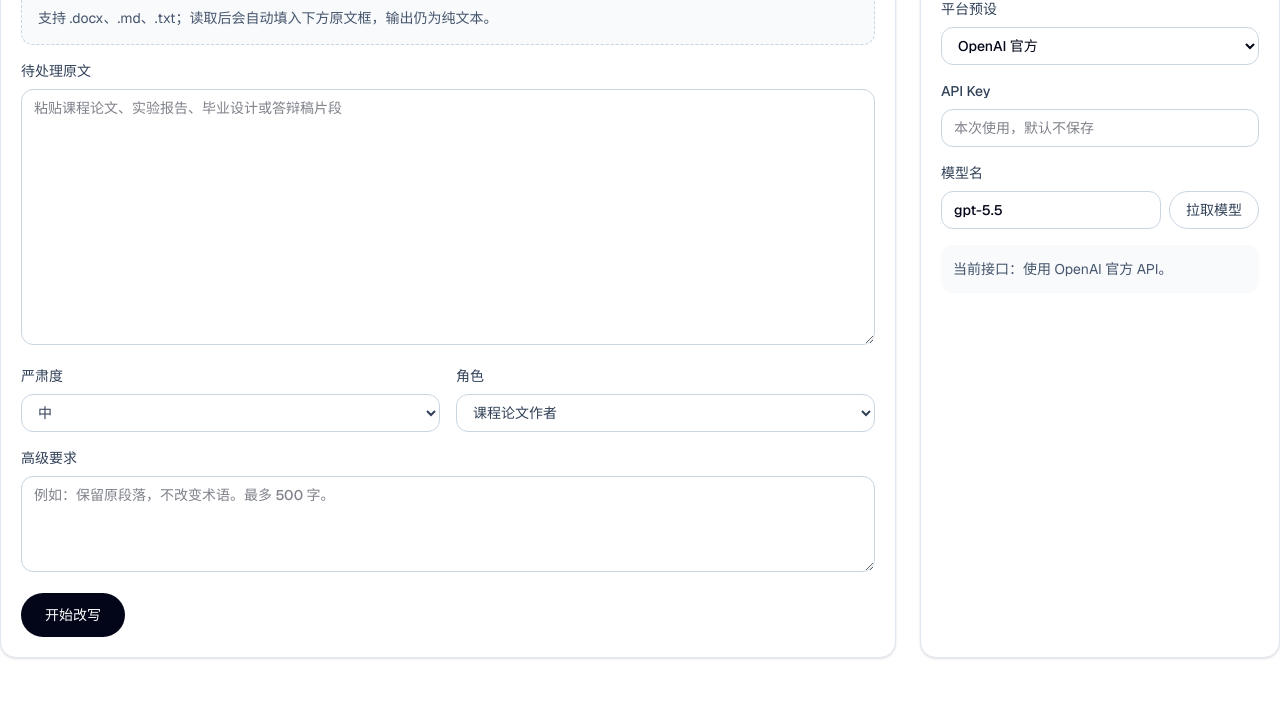
Test case: RewriteTool › automatically saves later rewrites after the history notice has been acknowledged
In the text box labelled "待处理原文": (448, 217) [21,89,875,345], type "这是原文。"
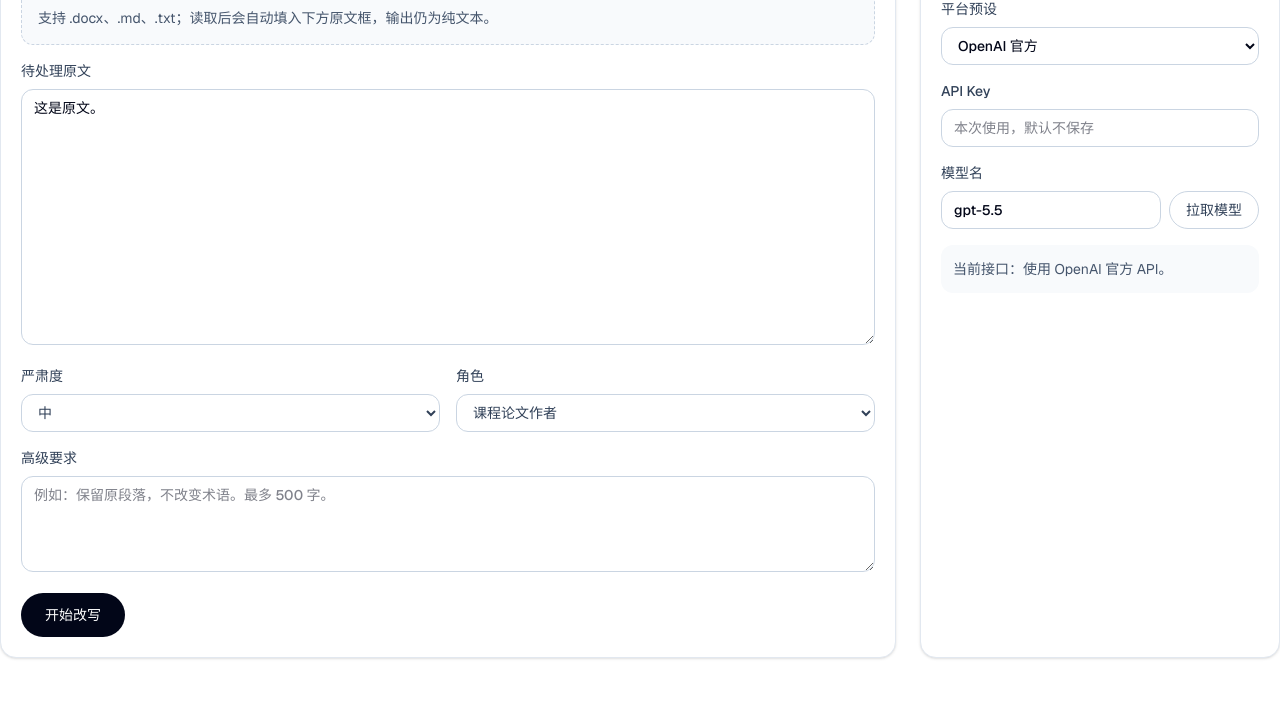
Click the button "开始改写": (73, 615) [21,593,125,637]
(page scrolled)
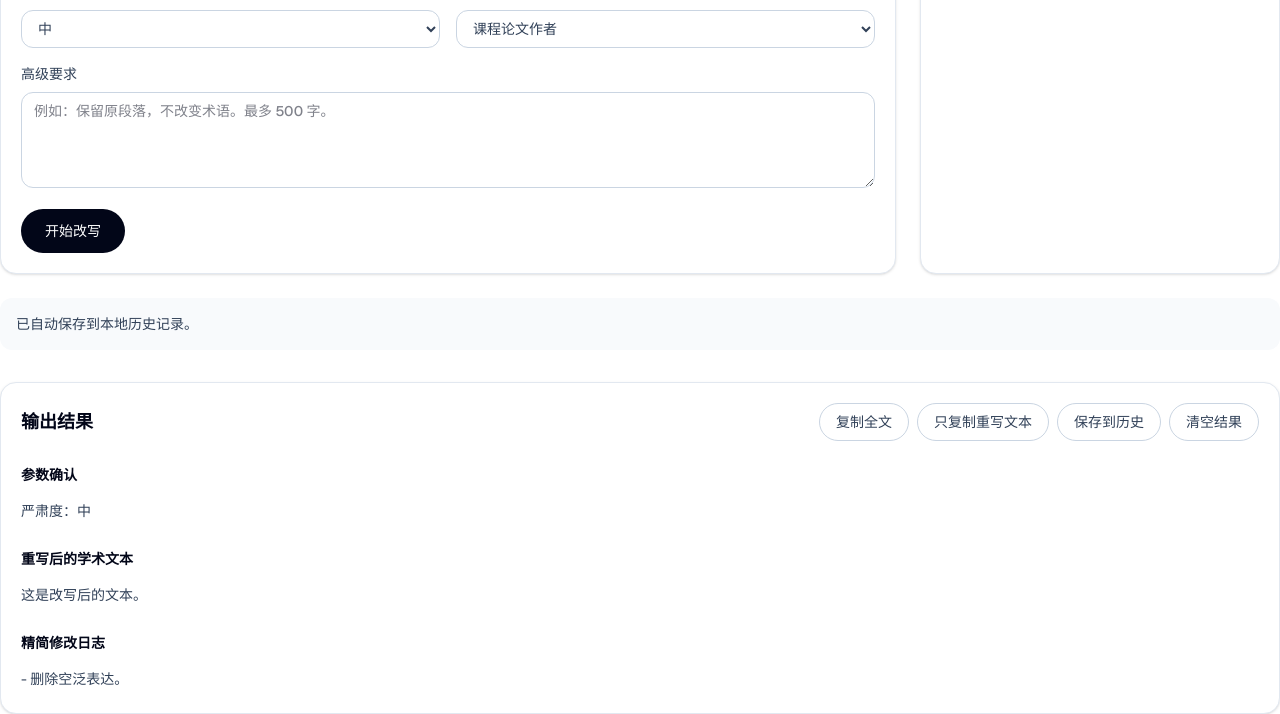
Expected: the text "这是改写后的文本。" is shown, [21,586,147,604]
Expected: the text "已自动保存到本地历史记录。" is shown, [0,298,1279,350]
